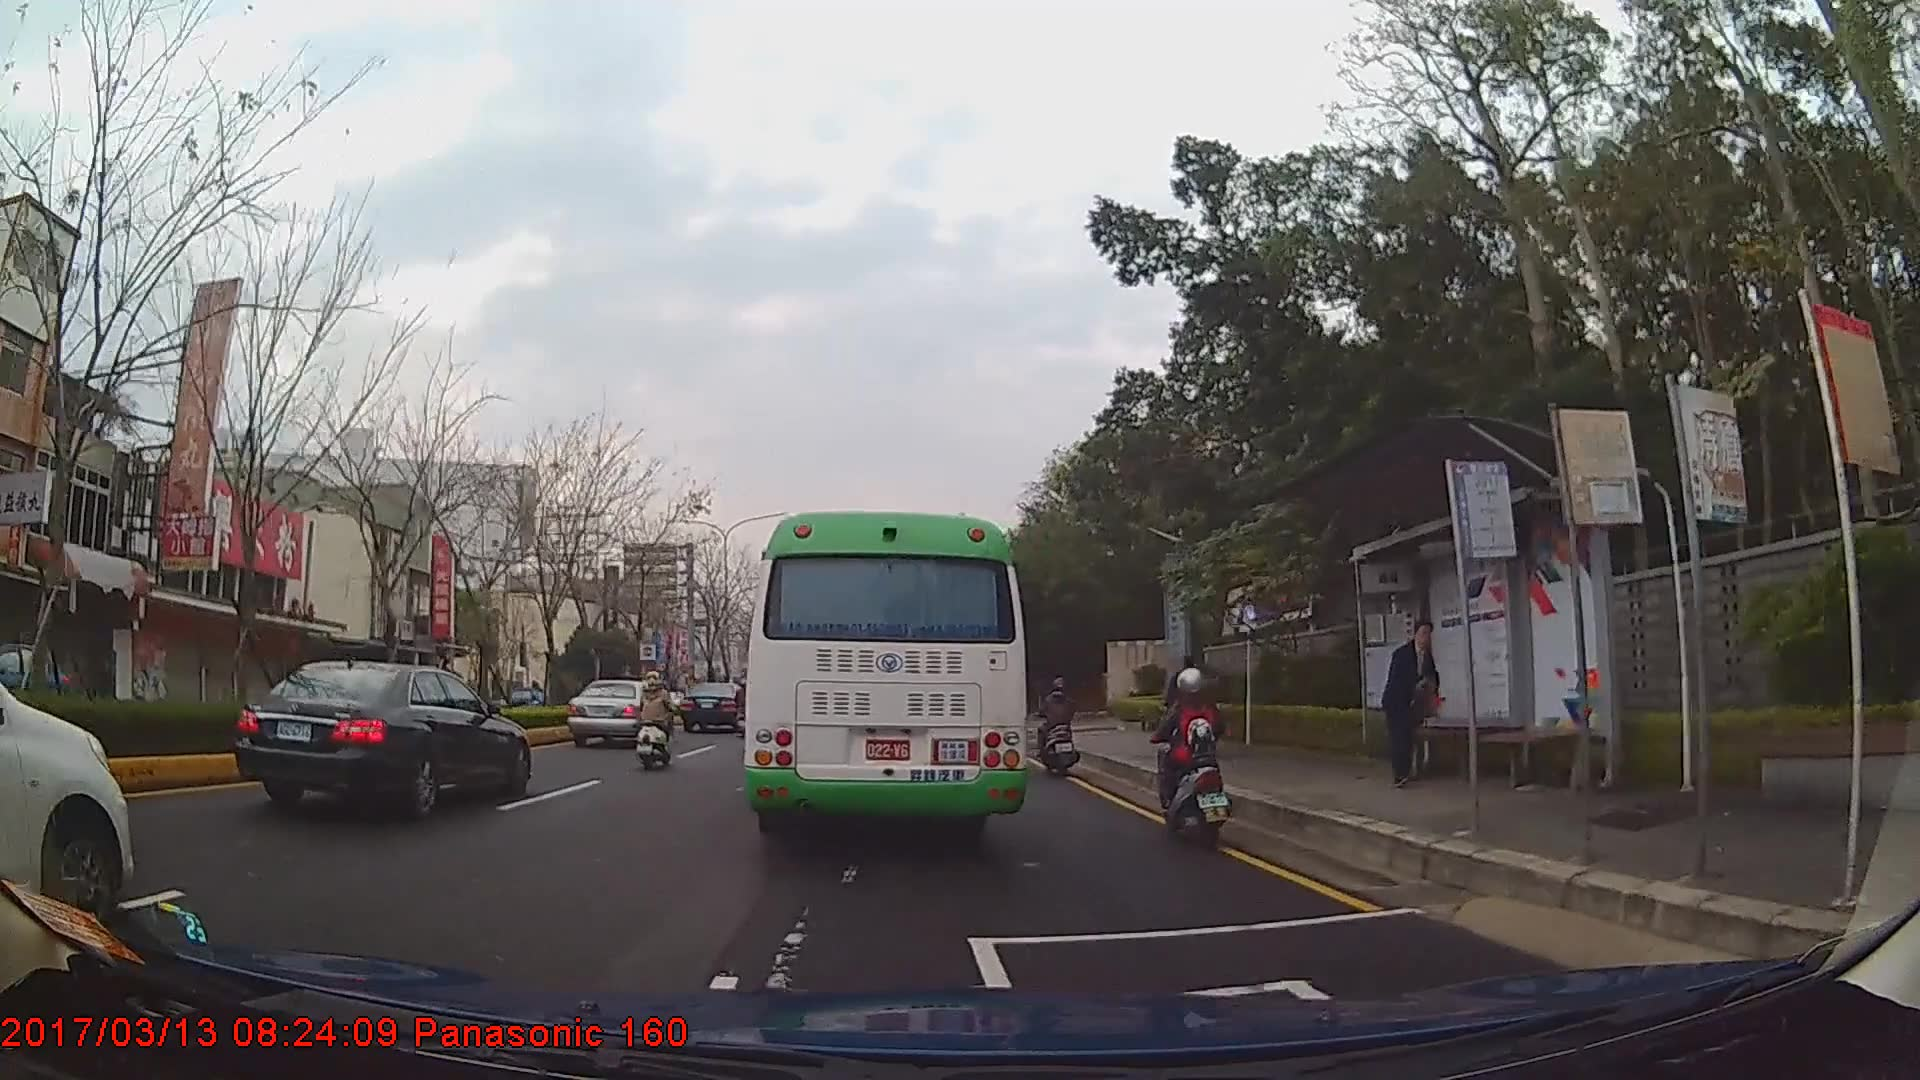pedestrian: (1385, 616, 1447, 789), (1158, 649, 1209, 754)
rider: (1147, 665, 1239, 841), (1035, 672, 1081, 777), (640, 670, 680, 765), (737, 679, 764, 730)
vehicle: (743, 509, 1023, 844), (232, 657, 531, 810), (568, 678, 666, 749), (679, 678, 747, 732)
